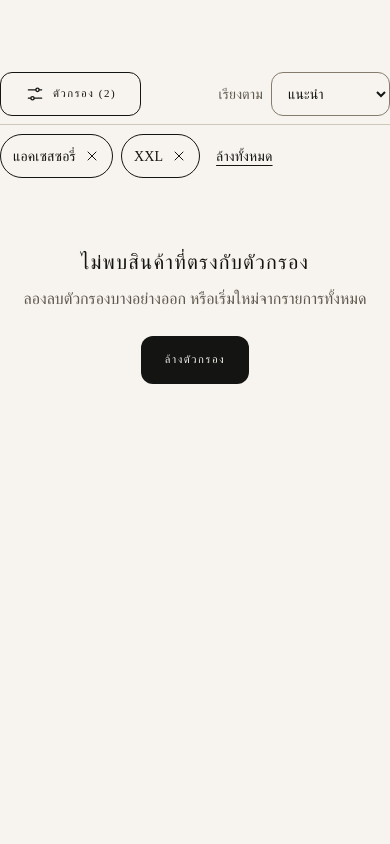
filters drawer below the sidebar breakpoint (RULES 8.6) › names the drawer action, not a status, when nothing matches (th)
Click the button "ตัวกรอง (2)": (71, 94) [0,72,141,116]
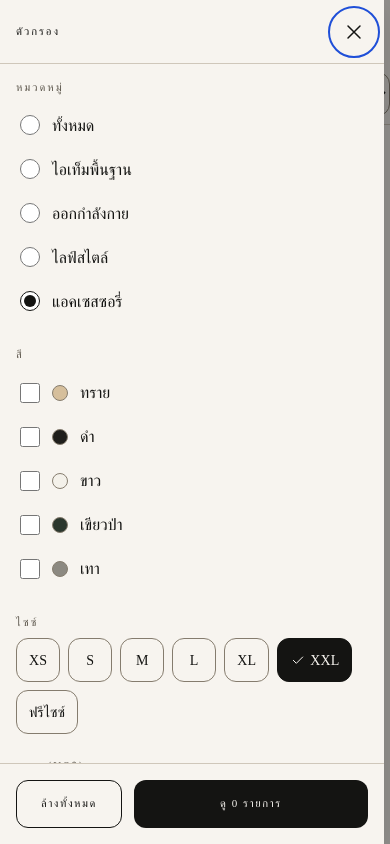
expect the button "ดู 0 รายการ" is shown: met, box [134,780,368,828]
